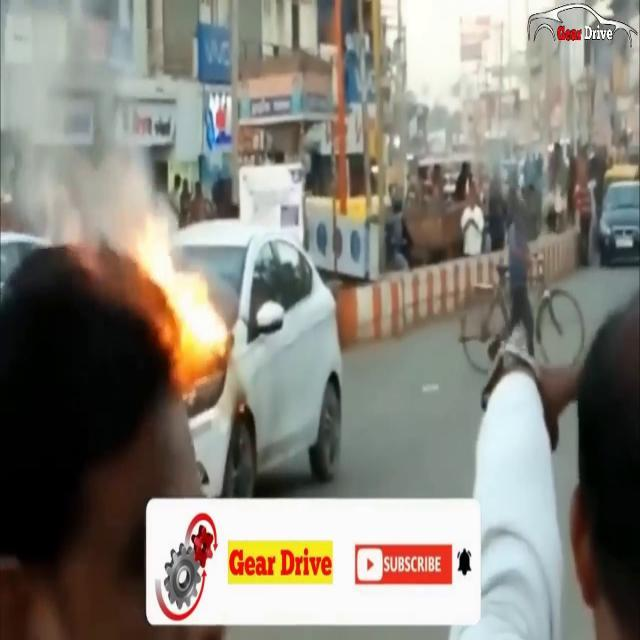Fire: (132, 194, 226, 374)
Smoke: (1, 0, 148, 254)
